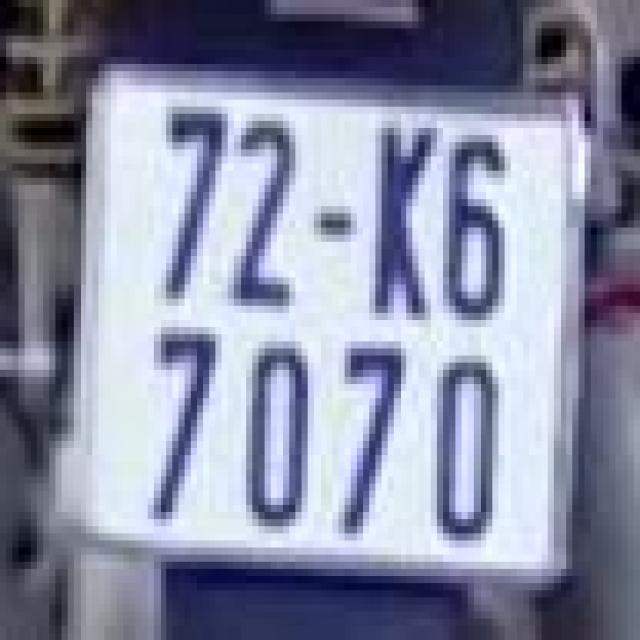0: (418, 338, 511, 558), (231, 323, 323, 537)
2: (228, 110, 302, 316)
6: (434, 114, 514, 327)
7: (332, 338, 412, 544), (150, 316, 224, 522), (157, 89, 225, 309)
K: (363, 103, 437, 331)
